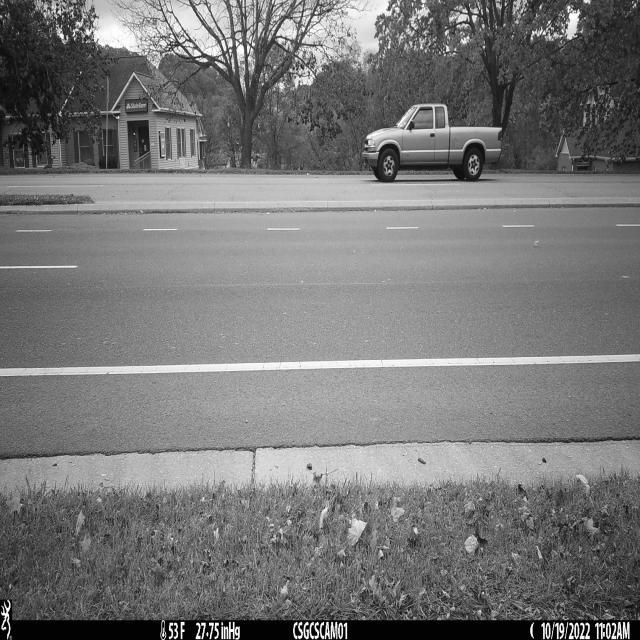Pickup: (362, 103, 503, 182)
